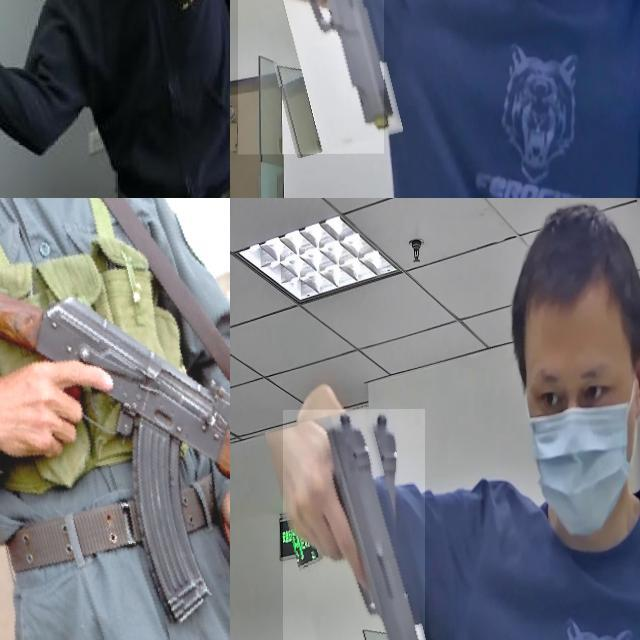-: (0, 0, 22, 56)
gun-knife-thesis - v11 Yolov5 augmented: (0, 198, 230, 640), (283, 409, 424, 640), (238, 0, 384, 165)
